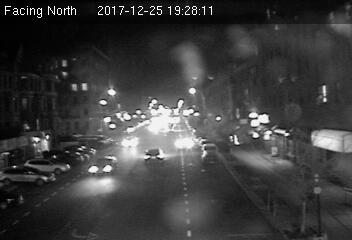car: (87, 155, 118, 175), (118, 134, 143, 148), (142, 147, 165, 161), (174, 137, 197, 150)
